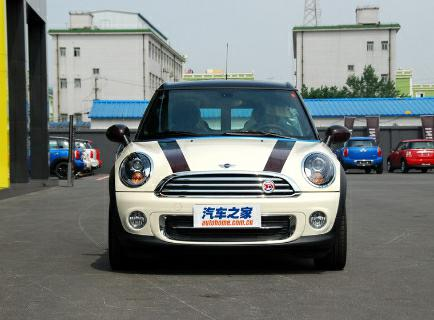MINI CLUBMAN: (108, 88, 344, 276)
